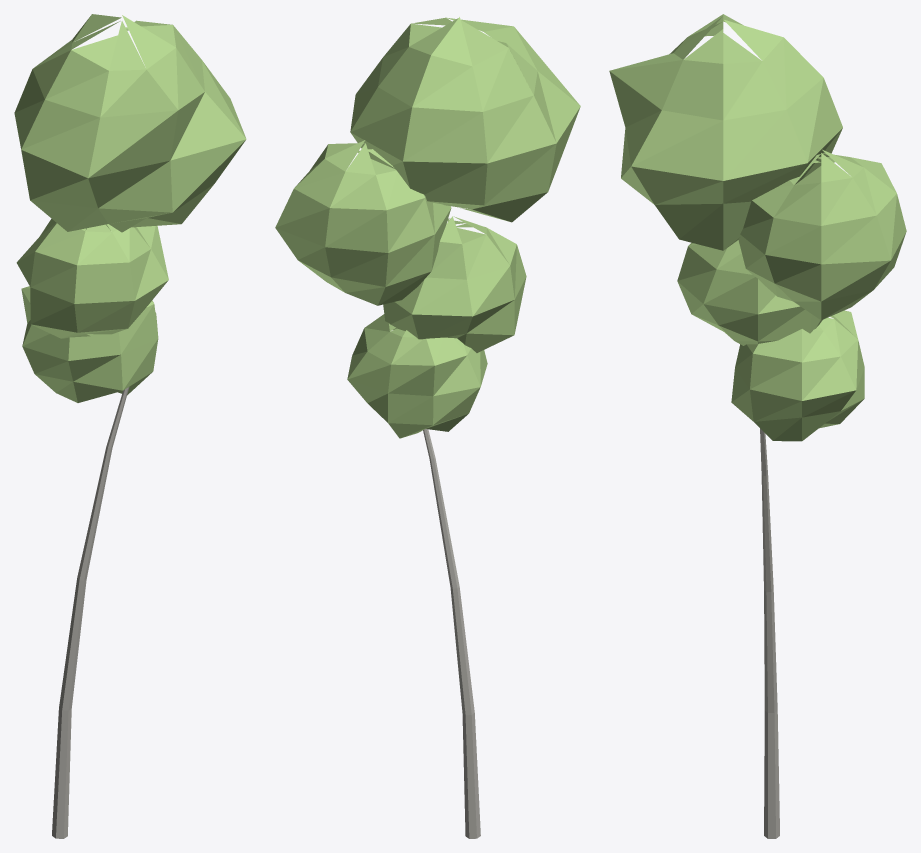
The model's file is temperate-forest-ecology-beech-sapling-164240da__3812.glb.
3 views of the same model, side by side, from view 1: azimuth 30°, elevation 25°; view 2: azimuth 150°, elevation 25°; view 3: azimuth 270°, elevation 25° (orthographic). The views are drawn at different scales.
Parts seen in each view (by area): view 1: beech-sapling; view 2: beech-sapling; view 3: beech-sapling.
Boxes of the visible parts, box(x1,y1,x2,y2) form: beech-sapling: box(14, 14, 246, 838); beech-sapling: box(275, 17, 580, 838); beech-sapling: box(609, 14, 906, 838).
Bounding box in the file's own units: 0.4075 × 1.48 × 0.4768.
